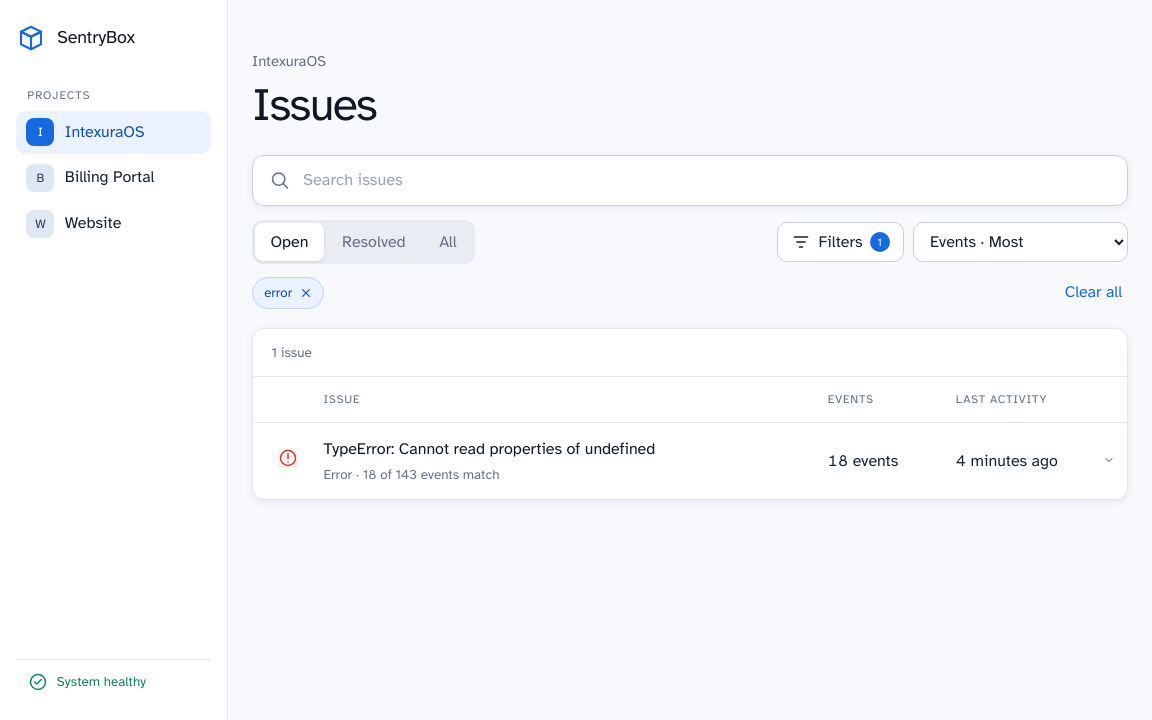
Test: project-first issue list › clears dependent filters when the active project changes
Expected: the heading "Issues" is shown, 252,76 -> 376,132
Click the button "B Billing Portal" at {"x": 114, "y": 178}, box 16,157 -> 211,199
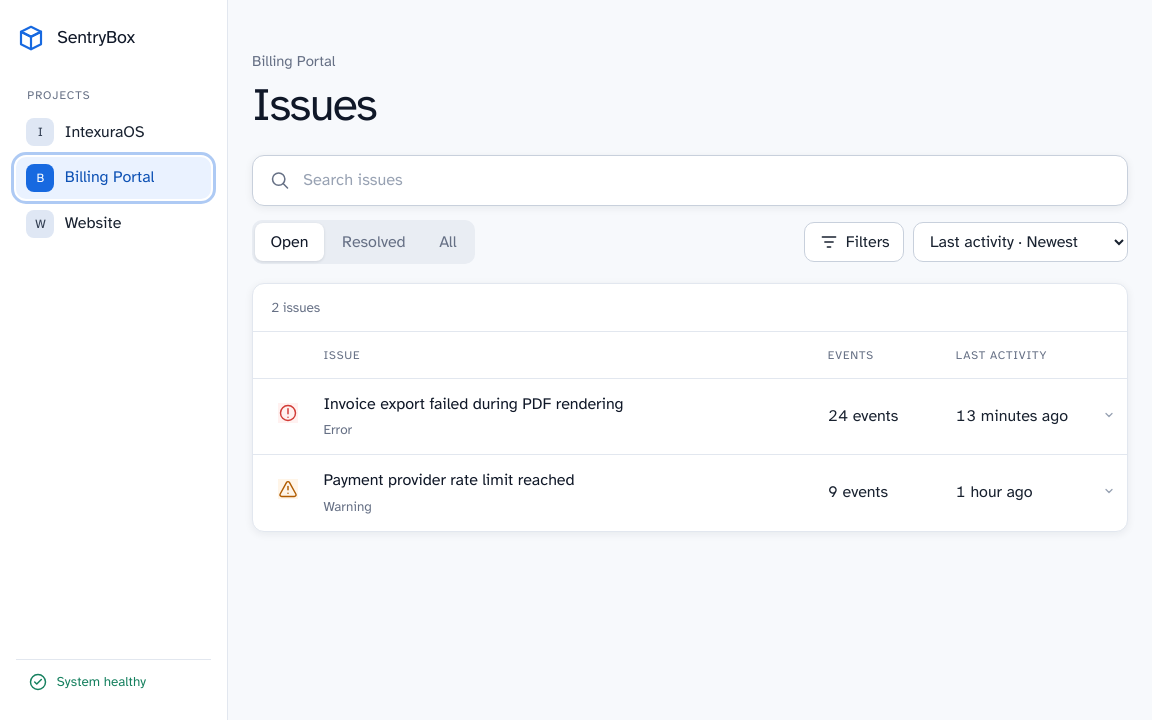
Result: the link "Invoice export failed during PDF rendering" is shown at 323,394 -> 624,438
